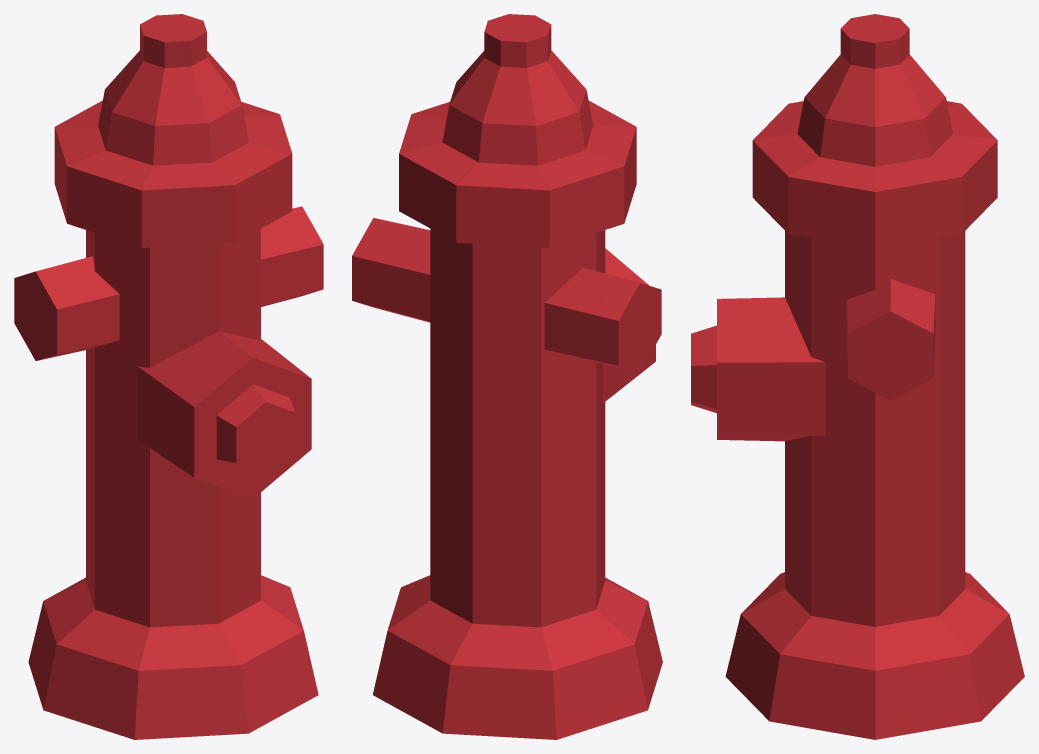
File: props_fire-hydrant.fbx
3 renders of one model, left to right at view 1: azimuth 30°, elevation 25°; view 2: azimuth 150°, elevation 25°; view 3: azimuth 270°, elevation 25°, orthographic.
Visible parts, largest first — view 1: props_fire_hydrant; view 2: props_fire_hydrant; view 3: props_fire_hydrant.
Part boxes in pixels (x1=…): props_fire_hydrant: x1=14, y1=14, x2=323, y2=739; props_fire_hydrant: x1=352, y1=14, x2=662, y2=739; props_fire_hydrant: x1=691, y1=14, x2=1024, y2=739.
Bounding box in the file's own units: 85.82 × 200 × 93.37.
